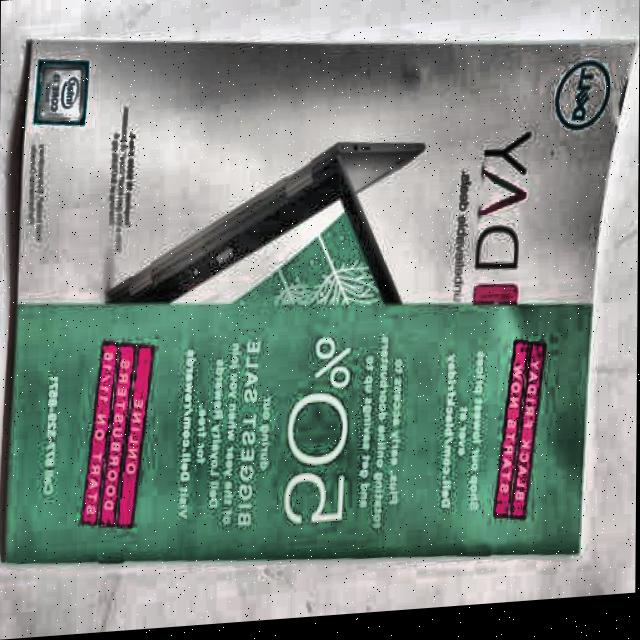paper: (2, 0, 640, 597)
